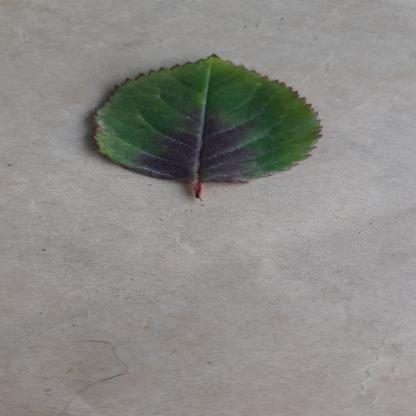downy-mildew: (84, 52, 332, 186)
